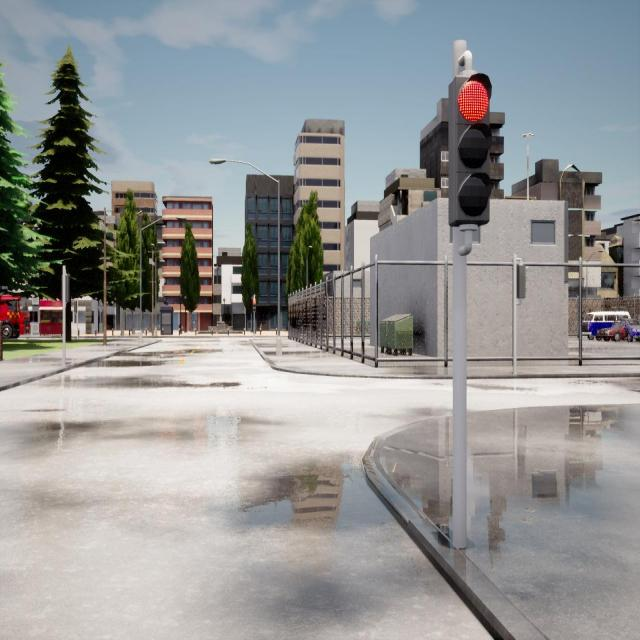Vehicle: (582, 311, 630, 339), (0, 295, 30, 338), (596, 325, 626, 341), (622, 319, 640, 342)
traffic_light: (451, 76, 492, 222), (517, 264, 526, 297), (65, 275, 69, 302), (253, 300, 256, 312)
